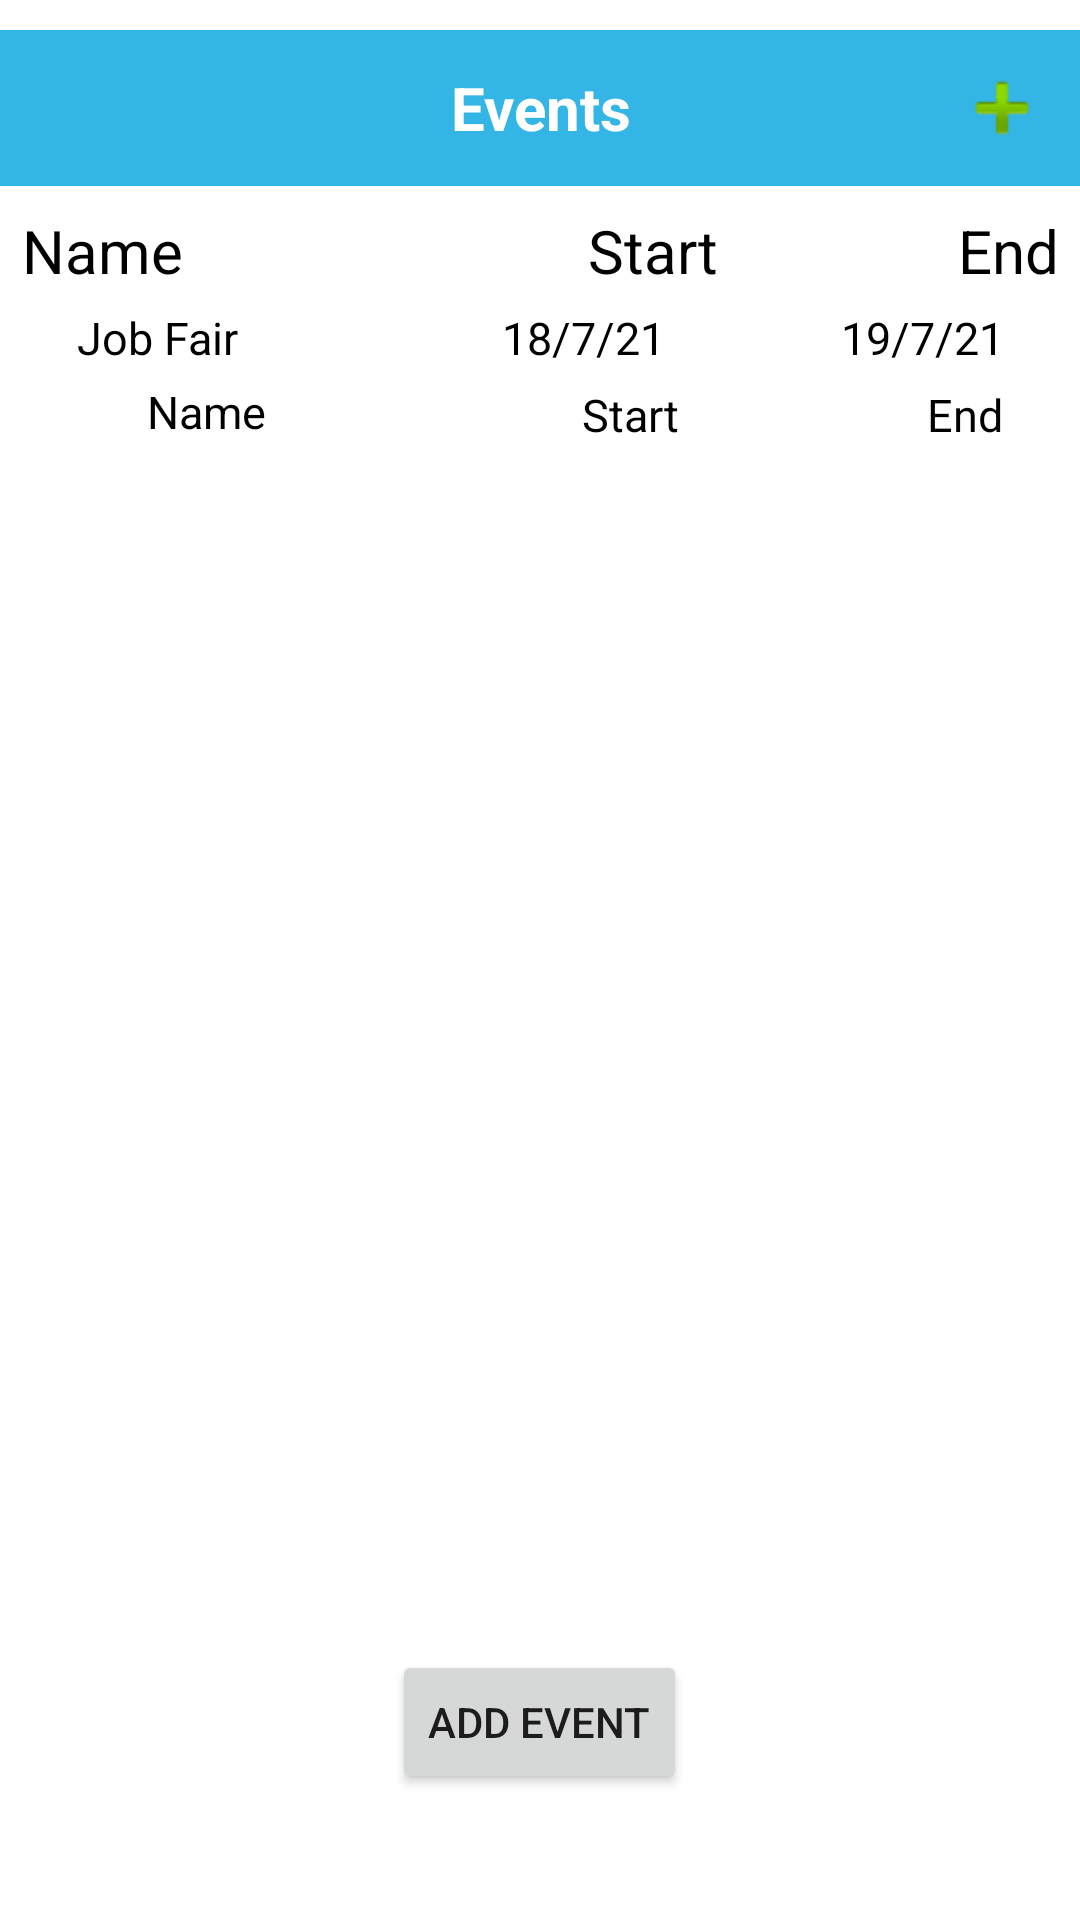

Where to tap for icons on this 1080 × 1920 app screen, as [x,y]:
add: [1002,108]
